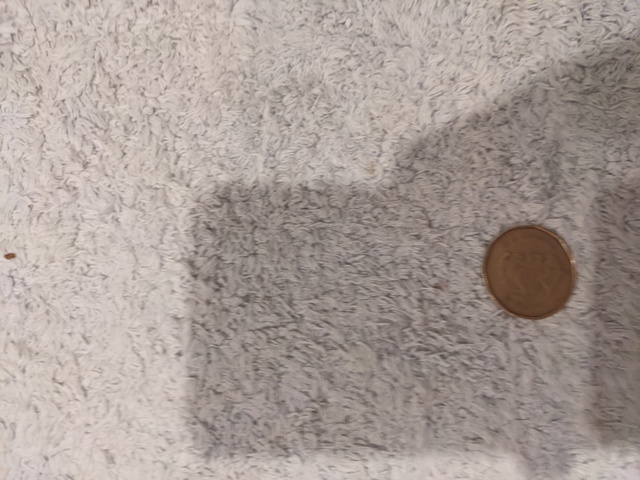loonie: (479, 216, 583, 323)
